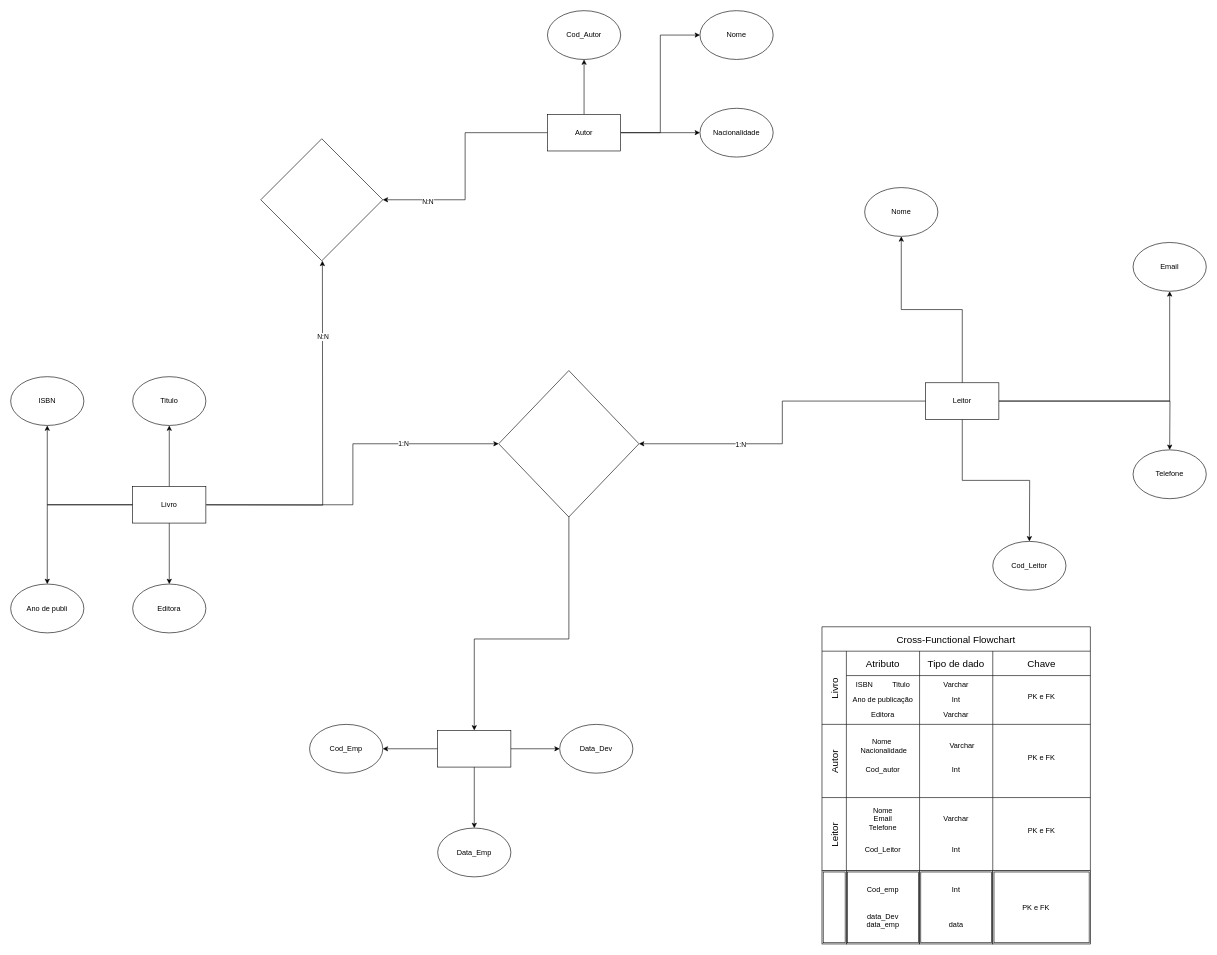
This 1217x955 diagram has some shape labels left out. Here are the shapes that lost their labels. From the top down, the centre of each, then its label:
At (x=321, y=199): "Tem".
At (x=568, y=443): "Emprestar".
At (x=474, y=748): "Empréstimo".
At (x=833, y=907): "Emprestimo".
